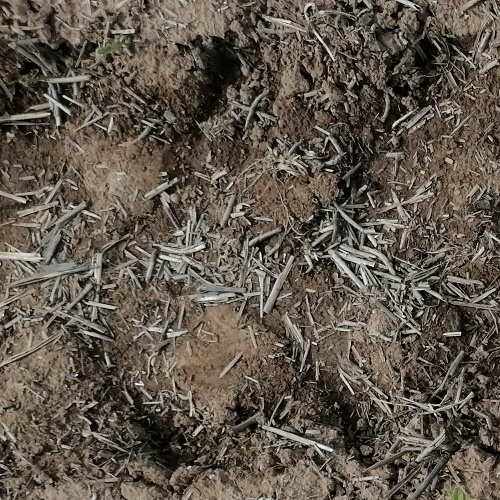beet: (96, 37, 130, 56)
